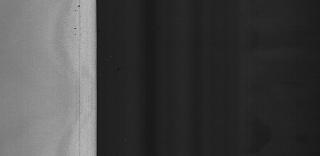oil spot: (66, 4, 84, 15), (71, 26, 81, 38)
